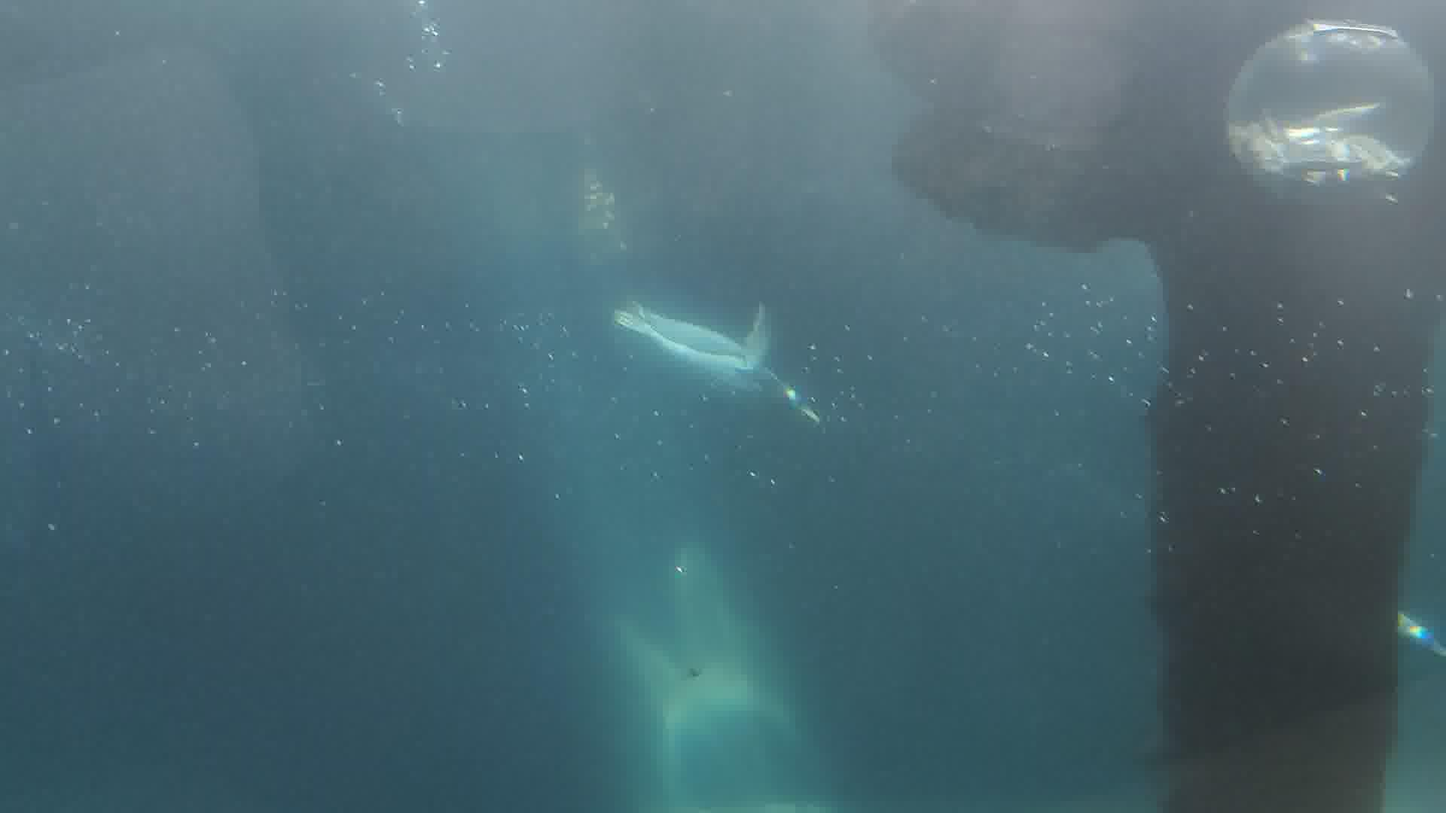apple: (614, 300, 821, 425)
